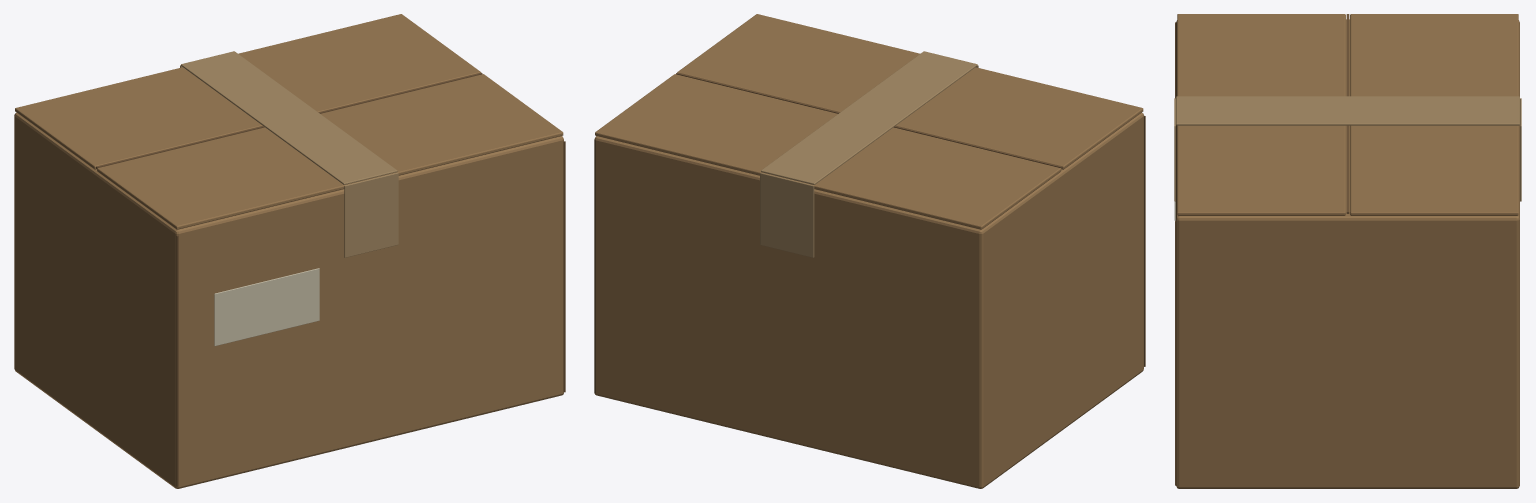
3 views of the same model, side by side, from view 1: azimuth 30°, elevation 25°; view 2: azimuth 150°, elevation 25°; view 3: azimuth 270°, elevation 25° (orthographic). The views are drawn at different scales.
Parts seen in each view (by area): view 1: Box_Main, Box_Lid_Flap, Box_Lid_Flap.001, Box_Tape_Top, Box_Blank_Label, Box_Tape_End, Box_Lid_Centre_Seam, Box_Fold_Edge.001, Box_Fold_Edge; view 2: Box_Main, Box_Lid_Flap.001, Box_Lid_Flap, Box_Tape_Top, Box_Tape_End.001, Box_Lid_Centre_Seam; view 3: Box_Main, Box_Lid_Flap, Box_Lid_Flap.001, Box_Tape_Top, Box_Lid_Centre_Seam.
Boxes of the visible parts, x1=… form: Box_Main: x1=14, y1=112, x2=563, y2=488; Box_Lid_Flap: x1=97, y1=74, x2=563, y2=229; Box_Lid_Flap.001: x1=15, y1=14, x2=480, y2=169; Box_Tape_Top: x1=181, y1=51, x2=397, y2=184; Box_Blank_Label: x1=214, y1=268, x2=319, y2=346; Box_Tape_End: x1=344, y1=172, x2=398, y2=257; Box_Lid_Centre_Seam: x1=96, y1=72, x2=482, y2=168; Box_Fold_Edge.001: x1=563, y1=141, x2=565, y2=392; Box_Fold_Edge: x1=176, y1=235, x2=178, y2=486; Box_Main: x1=594, y1=112, x2=1143, y2=488; Box_Lid_Flap.001: x1=595, y1=74, x2=1061, y2=229; Box_Lid_Flap: x1=677, y1=14, x2=1143, y2=169; Box_Tape_Top: x1=761, y1=51, x2=977, y2=184; Box_Tape_End.001: x1=760, y1=172, x2=814, y2=257; Box_Lid_Centre_Seam: x1=676, y1=72, x2=1062, y2=168; Box_Main: x1=1176, y1=19, x2=1519, y2=488; Box_Lid_Flap: x1=1177, y1=14, x2=1345, y2=215; Box_Lid_Flap.001: x1=1350, y1=14, x2=1518, y2=215; Box_Tape_Top: x1=1176, y1=96, x2=1519, y2=125; Box_Lid_Centre_Seam: x1=1346, y1=14, x2=1349, y2=213.
Size of the model in its own units: 0.44 by 0.288 by 0.3235.
